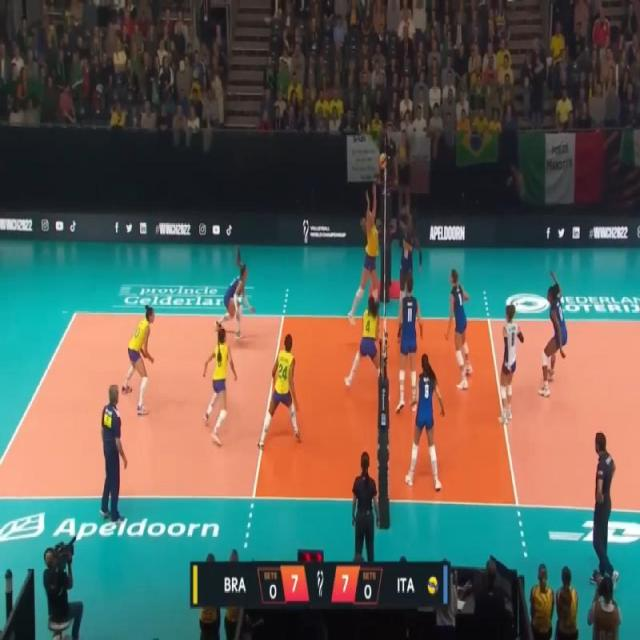volleyball: (379, 152, 387, 168)
